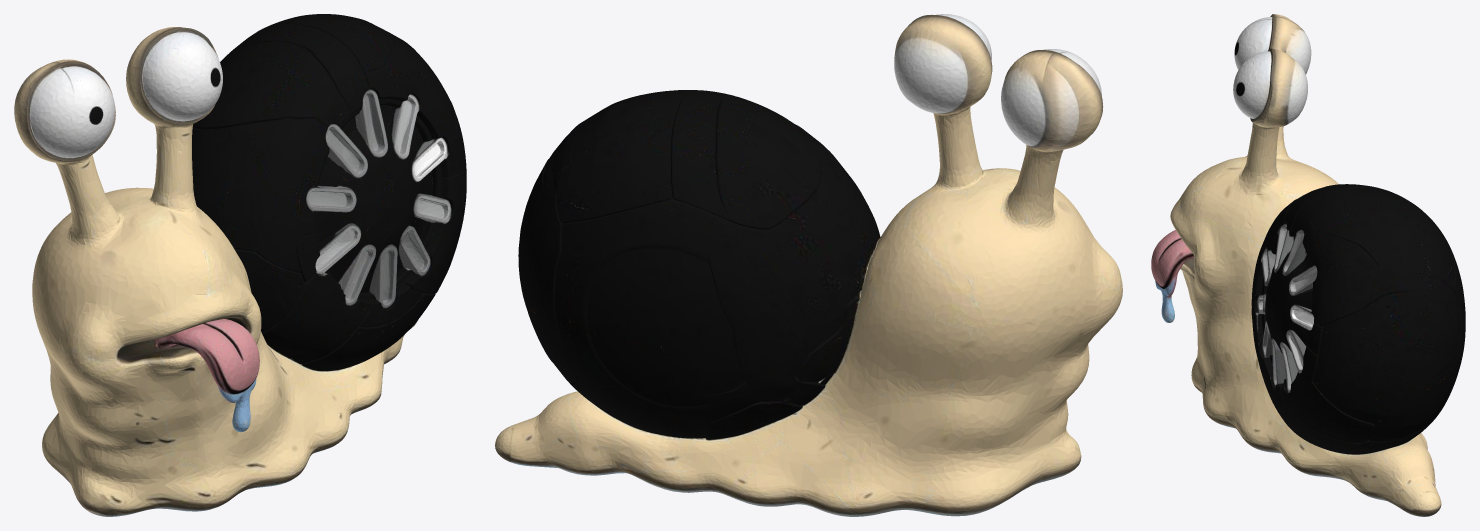
Rendered from lago.glb.
3 views of the same model, side by side, from view 1: azimuth 30°, elevation 25°; view 2: azimuth 150°, elevation 25°; view 3: azimuth 270°, elevation 25° (orthographic). The views are drawn at different scales.
Size of the model in its own units: 1.9 by 1.63 by 1.36.
1 material, 1 textured.
